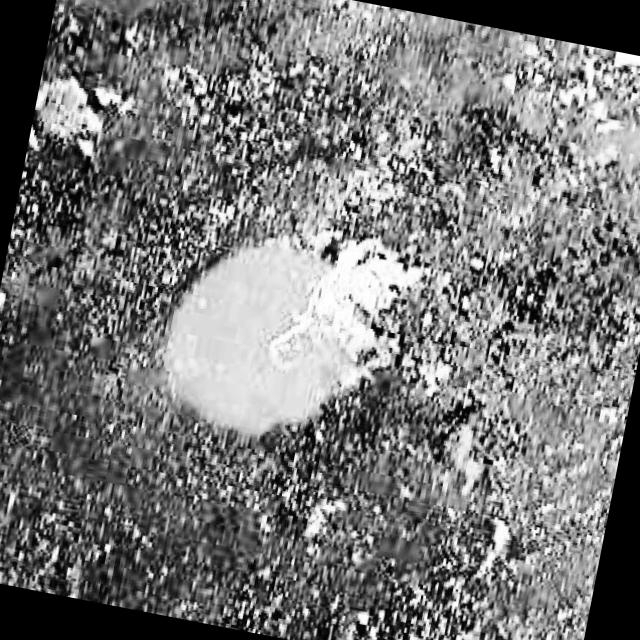Pothole: (122, 185, 450, 484)
